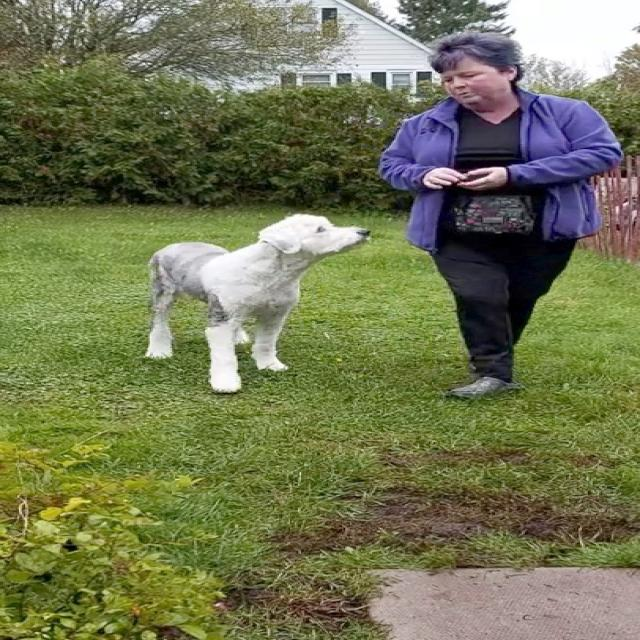Unleashed_Dog: (142, 210, 538, 394)
